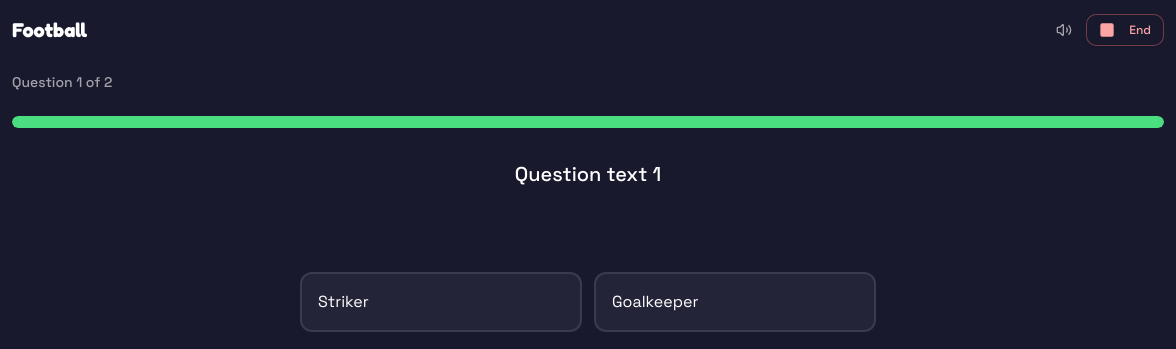
Test: QuizStage › re-syncs to the server's current question when an answer is rejected
This screenshot has width=1176, height=349.
Expected: the text "Question text 1" is shown, [515,160,661,188]
Click the button "Striker" at (343, 302), box [300,272,582,332]
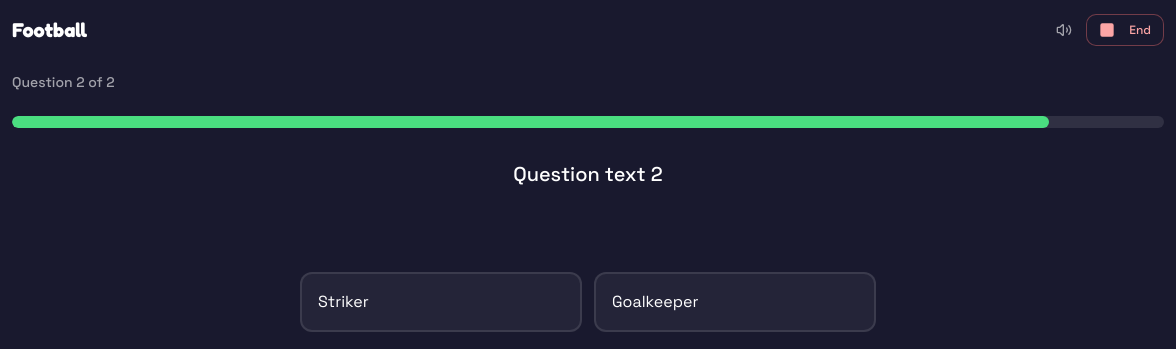
Expected: the text "Question text 2" is shown, [513,160,663,188]
